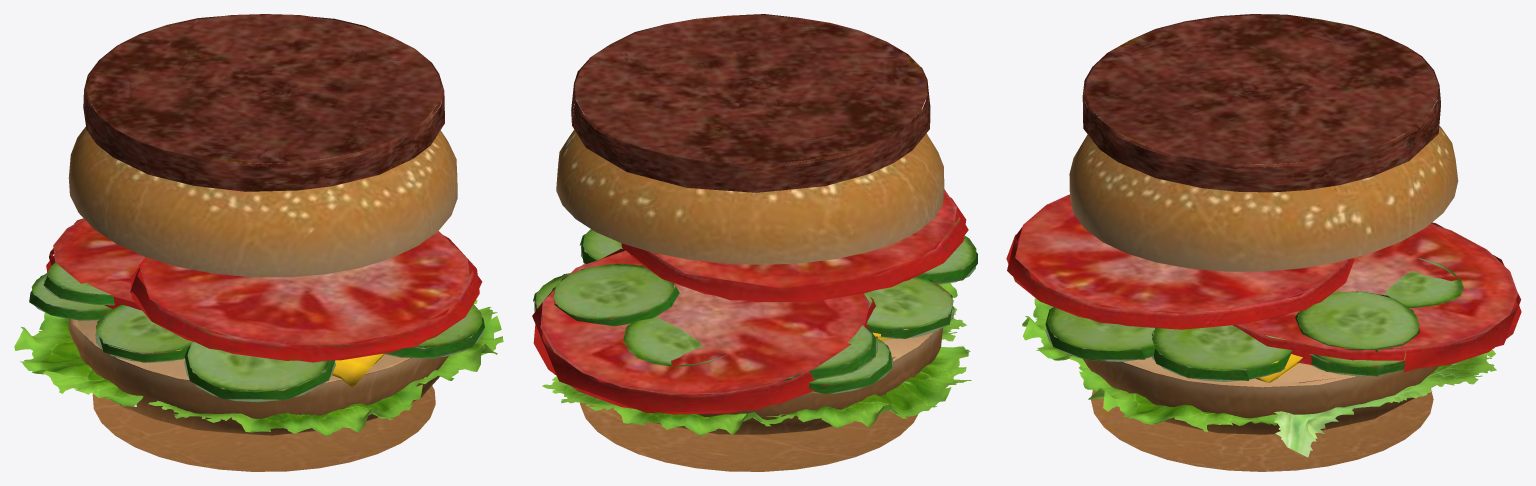
The model's file is classic-smash-burger-ultralight.glb.
The picture shows the model from 3 angles, left to right: view 1: azimuth 30°, elevation 25°; view 2: azimuth 150°, elevation 25°; view 3: azimuth 270°, elevation 25°; orthographic projection.
Parts seen in each view (by area): view 1: Burger_Patty_Top, Burger_Top_Bun_Full, Burger_Tomato_Front, Burger_Cucumbers, Burger_Bottom_Bun, Burger_Paper_Wrap, Burger_Tomato_Back, pPlane16_lettuce_001_0, pPlane17_lettuce_001_0, pPlane14_lettuce_001_0, Burger_Cheese; view 2: Burger_Patty_Top, Burger_Top_Bun_Full, Burger_Tomato_Back, Burger_Cucumbers, Burger_Tomato_Front, Burger_Paper_Wrap, Burger_Bottom_Bun, pPlane16_lettuce_001_0, pPlane15_lettuce_001_0; view 3: Burger_Patty_Top, Burger_Top_Bun_Full, Burger_Tomato_Front, Burger_Cucumbers, Burger_Tomato_Back, Burger_Bottom_Bun, Burger_Paper_Wrap, pPlane15_lettuce_001_0, pPlane14_lettuce_001_0, pPlane17_lettuce_001_0.
Part boxes in pixels (bbox=[...]): Burger_Patty_Top: bbox=[83, 14, 444, 191]; Burger_Top_Bun_Full: bbox=[68, 113, 457, 277]; Burger_Tomato_Front: bbox=[130, 231, 482, 362]; Burger_Cucumbers: bbox=[29, 262, 484, 402]; Burger_Bottom_Bun: bbox=[68, 319, 448, 435]; Burger_Paper_Wrap: bbox=[92, 386, 435, 471]; Burger_Tomato_Back: bbox=[46, 218, 145, 314]; pPlane16_lettuce_001_0: bbox=[14, 312, 143, 406]; pPlane17_lettuce_001_0: bbox=[148, 370, 428, 436]; pPlane14_lettuce_001_0: bbox=[419, 299, 503, 383]; Burger_Cheese: bbox=[110, 349, 384, 387]; Burger_Patty_Top: bbox=[571, 14, 930, 192]; Burger_Top_Bun_Full: bbox=[556, 115, 944, 264]; Burger_Tomato_Back: bbox=[532, 248, 877, 414]; Burger_Cucumbers: bbox=[533, 229, 977, 394]; Burger_Tomato_Front: bbox=[621, 189, 968, 301]; Burger_Paper_Wrap: bbox=[580, 402, 917, 471]; Burger_Bottom_Bun: bbox=[582, 263, 942, 434]; pPlane16_lettuce_001_0: bbox=[761, 345, 971, 428]; pPlane15_lettuce_001_0: bbox=[542, 374, 795, 435]; Burger_Patty_Top: bbox=[1082, 14, 1440, 192]; Burger_Top_Bun_Full: bbox=[1069, 116, 1458, 271]; Burger_Tomato_Front: bbox=[1006, 194, 1354, 329]; Burger_Cucumbers: bbox=[1045, 258, 1463, 381]; Burger_Tomato_Back: bbox=[1233, 222, 1521, 372]; Burger_Bottom_Bun: bbox=[1083, 357, 1438, 434]; Burger_Paper_Wrap: bbox=[1091, 388, 1433, 471]; pPlane15_lettuce_001_0: bbox=[1274, 340, 1505, 457]; pPlane14_lettuce_001_0: bbox=[1079, 366, 1278, 431]; pPlane17_lettuce_001_0: bbox=[1022, 298, 1087, 368].
Bounding box in the file's own units: 1.68 × 1.23 × 1.81.
Materials: 3 (3 with a texture image).
